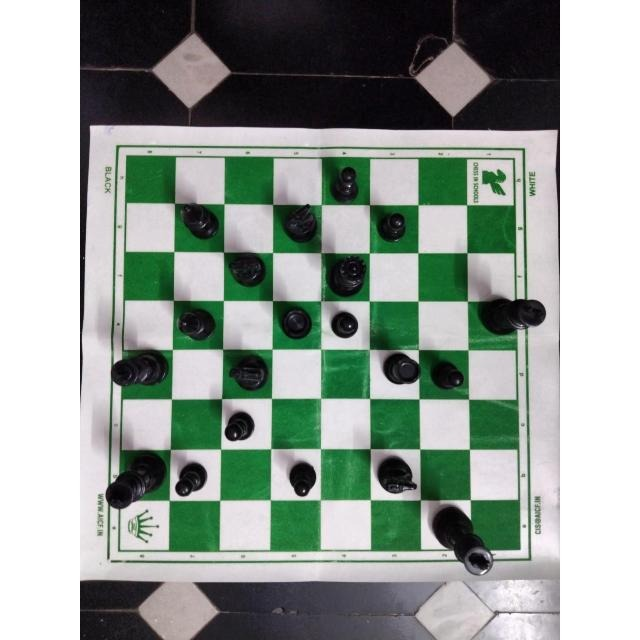black-bishop: (180, 201, 224, 242), (178, 306, 218, 345)
black-king: (428, 502, 496, 578), (102, 451, 171, 512), (478, 294, 550, 340), (108, 354, 171, 390)
black-knight: (372, 456, 420, 500), (226, 355, 272, 396), (280, 203, 319, 247), (226, 253, 270, 291)
black-pawn: (173, 460, 216, 501), (429, 353, 468, 394), (330, 163, 366, 205), (287, 459, 319, 501), (376, 212, 412, 248), (221, 406, 257, 442), (327, 310, 366, 342)
black-queen: (327, 254, 367, 300)
black-rook: (382, 349, 423, 395), (276, 306, 319, 346)
